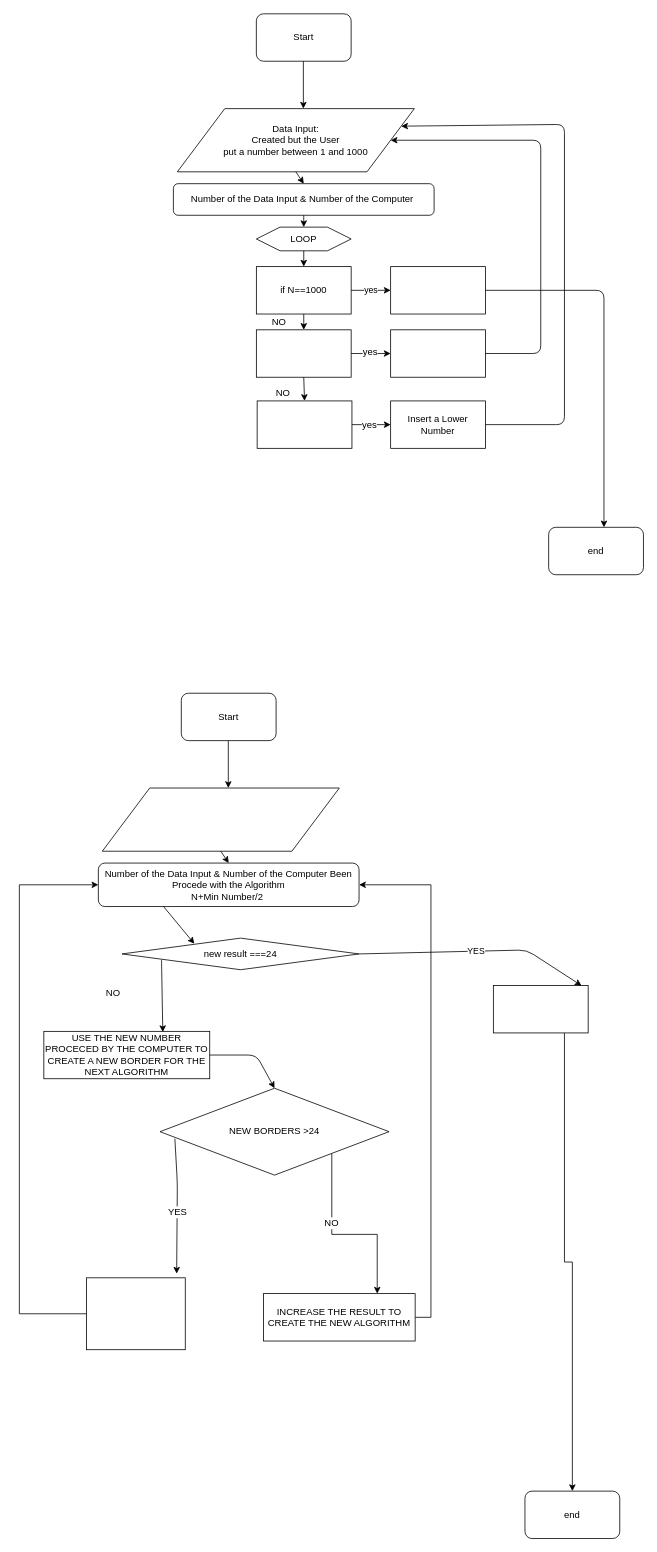
Image size: 657x1552. Some labels were removed from this diagram. Here are the shapes that lost their labels. From the top down, the centre of each, then its label:
At pixel 437 290: "out put".
At pixel 303 353: "if N<1000".
At pixel 437 353: "insert a bigger number".
At pixel 304 424: "if N>1000".
At pixel 220 819: "Data Input: Created but the User put a number between 0 and 1000".
At pixel 540 1009: "OutPut: RIGHT!".
At pixel 135 1313: "LOWER THE NEW RESULT, TO CREATE NEW ALGORITHM".
